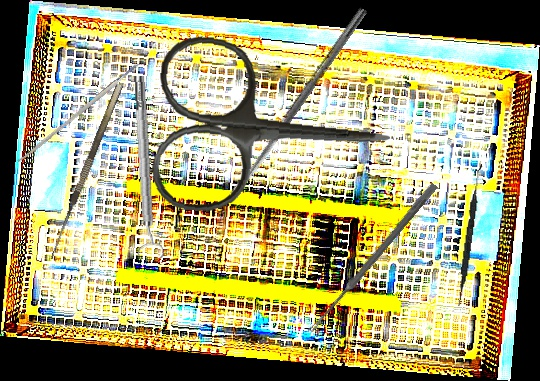Fixation Ring: (126, 75, 165, 260)
Hook Surgical: (46, 83, 133, 264)
Iris Scissors: (148, 33, 398, 227)
Scalpel Handle: (16, 61, 142, 165)
Spatula Surgical: (456, 163, 483, 307)
Surgical Spoon: (229, 6, 368, 198), (307, 181, 438, 336)
